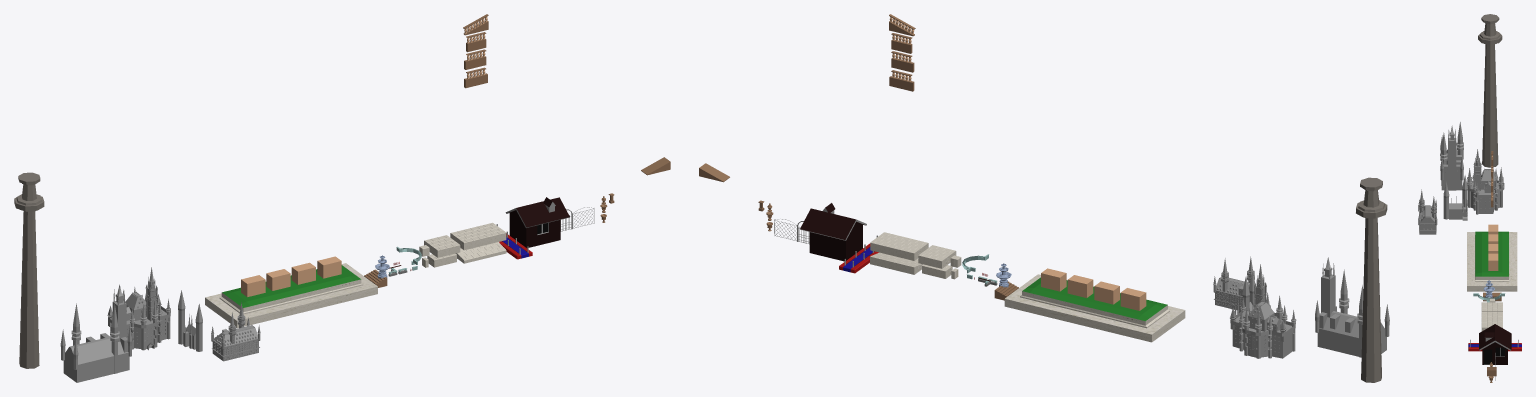
The model's file is Steps-01.FBX.
3 renders of one model, left to right at view 1: azimuth 30°, elevation 25°; view 2: azimuth 150°, elevation 25°; view 3: azimuth 270°, elevation 25°, orthographic. The views are drawn at different scales.
Visible parts, largest first — view 1: Box002, Cylinder001, Box017, Box010, Line002, Object007, Box005, Object006, Object003; view 2: Box002, Cylinder001, Box017, Box010, Box005, Object007, Line002, Object006, Object003, Object010; view 3: Box002, Cylinder001 (×3), Box017, Box005 (×2), Line002, Object010, Object007, Object004 (×2), Box010, Box001, Object003, Cylinder023 (+5 smaller).
Part boxes in pixels (x1=…): Box002: x1=205, y1=256, x2=377, y2=328; Cylinder001: x1=14, y1=172, x2=44, y2=368; Box017: x1=505, y1=197, x2=569, y2=247; Box010: x1=63, y1=337, x2=129, y2=382; Line002: x1=211, y1=302, x2=260, y2=361; Object007: x1=450, y1=222, x2=506, y2=250; Box005: x1=110, y1=309, x2=167, y2=350; Object006: x1=455, y1=242, x2=506, y2=263; Object003: x1=424, y1=235, x2=460, y2=257; Box002: x1=1004, y1=268, x2=1185, y2=342; Cylinder001: x1=1356, y1=177, x2=1387, y2=382; Box017: x1=800, y1=203, x2=866, y2=261; Box010: x1=1317, y1=311, x2=1386, y2=356; Box005: x1=1232, y1=316, x2=1293, y2=358; Object007: x1=870, y1=232, x2=928, y2=260; Line002: x1=1213, y1=256, x2=1264, y2=310; Object006: x1=870, y1=252, x2=922, y2=274; Object003: x1=918, y1=245, x2=956, y2=268; Object010: x1=1321, y1=274, x2=1335, y2=317; Box002: x1=1467, y1=224, x2=1517, y2=291; Cylinder001 (×3): x1=1443, y1=14, x2=1502, y2=297; Box017: x1=1479, y1=324, x2=1511, y2=364; Box005 (×2): x1=1467, y1=183, x2=1521, y2=351; Line002: x1=1418, y1=189, x2=1437, y2=234; Object010: x1=1448, y1=138, x2=1456, y2=190; Object007: x1=1481, y1=311, x2=1502, y2=331; Object004 (×2): x1=1473, y1=169, x2=1505, y2=300; Box010: x1=1441, y1=149, x2=1462, y2=190; Box001: x1=1449, y1=203, x2=1462, y2=219; Object003: x1=1481, y1=302, x2=1502, y2=311; Cylinder023: x1=1456, y1=122, x2=1463, y2=160.
Size of the model in its own units: 17968 by 6343 by 3168.
